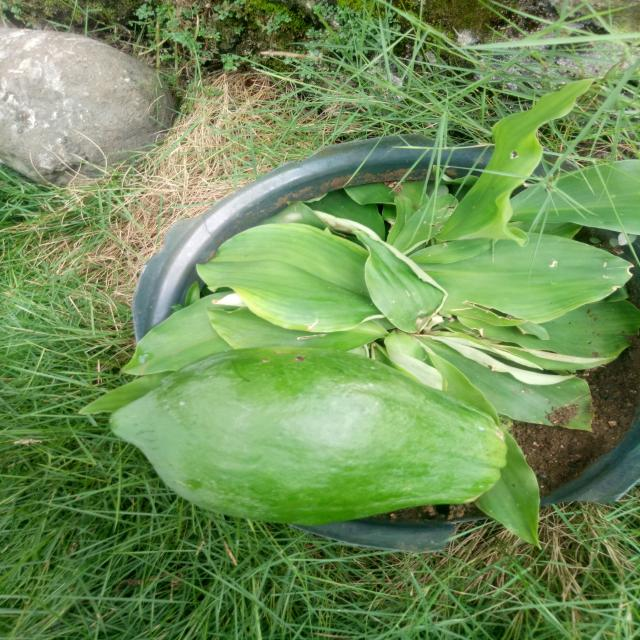Pepaya unrippen: (111, 352, 508, 535)
